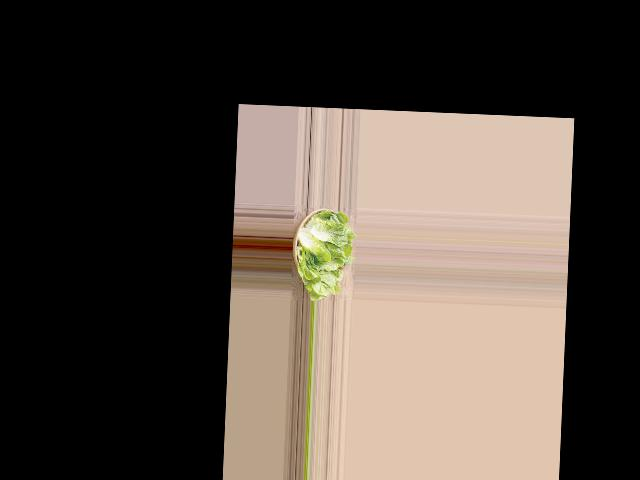lettuce: (291, 203, 354, 300)
